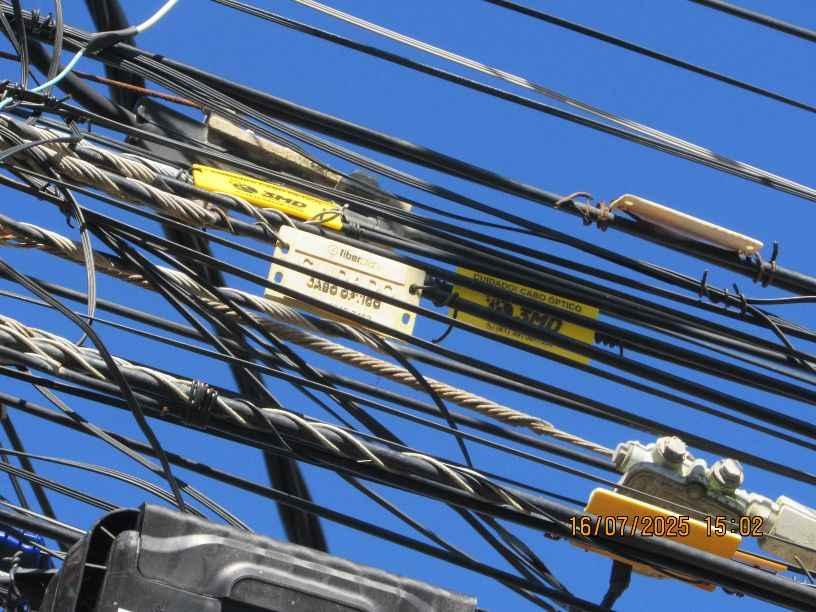caixa_derivacao: (35, 473, 484, 612)
fibra_optica: (66, 230, 402, 398), (85, 123, 358, 228), (424, 259, 616, 389), (548, 175, 773, 265)
